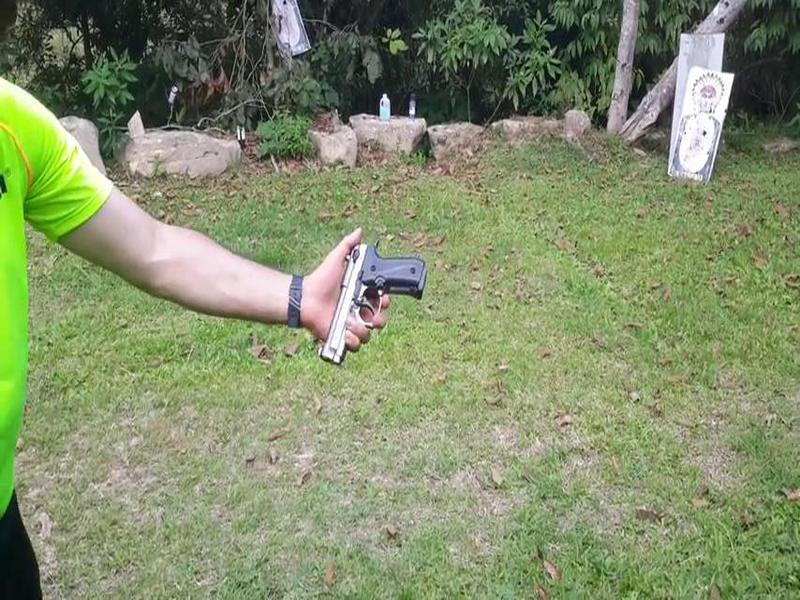Pistola: (327, 231, 436, 394)
